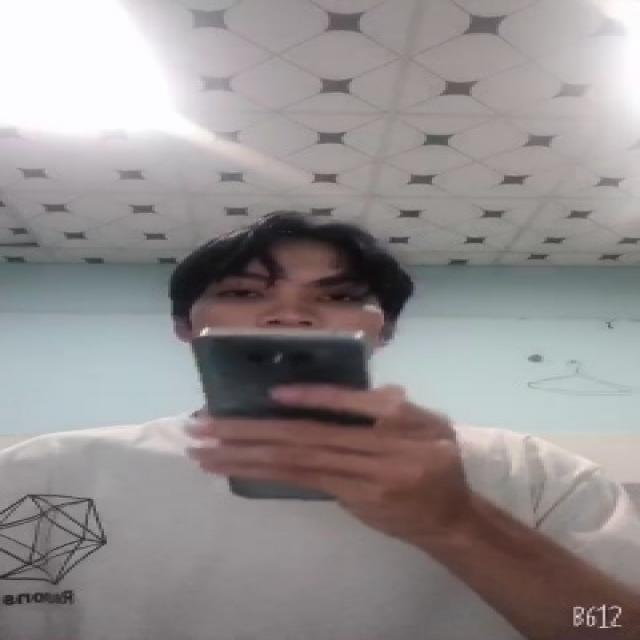Phone: (188, 327, 372, 505)
